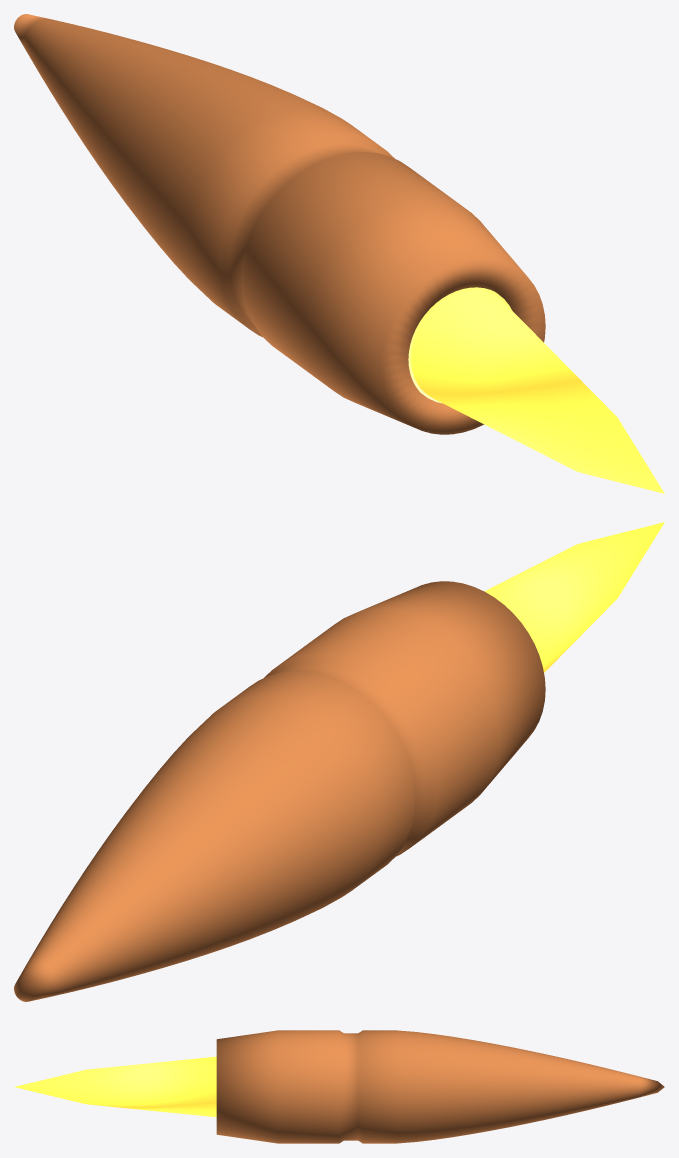
The model's file is Mermi_OyunIci_Tracer_Scale.glb.
3 renders of one model, top to bottom at view 1: azimuth 30°, elevation 25°; view 2: azimuth 150°, elevation 25°; view 3: azimuth 270°, elevation 25°, orthographic. The views are drawn at different scales.
Visible parts, largest first — view 1: Mermi_OyunIci_Tracer_Body, Mermi_OyunIci_Tracer_Streak; view 2: Mermi_OyunIci_Tracer_Body, Mermi_OyunIci_Tracer_Streak; view 3: Mermi_OyunIci_Tracer_Body, Mermi_OyunIci_Tracer_Streak.
Boxes of the visible parts, x1,y1,x2,y2 form: Mermi_OyunIci_Tracer_Body: [14, 14, 545, 434]; Mermi_OyunIci_Tracer_Streak: [411, 290, 664, 493]; Mermi_OyunIci_Tracer_Body: [14, 581, 545, 1001]; Mermi_OyunIci_Tracer_Streak: [484, 522, 664, 672]; Mermi_OyunIci_Tracer_Body: [216, 1030, 664, 1143]; Mermi_OyunIci_Tracer_Streak: [15, 1056, 216, 1117].
Size of the model in its own units: 0.1095 by 0.1095 by 0.63.
